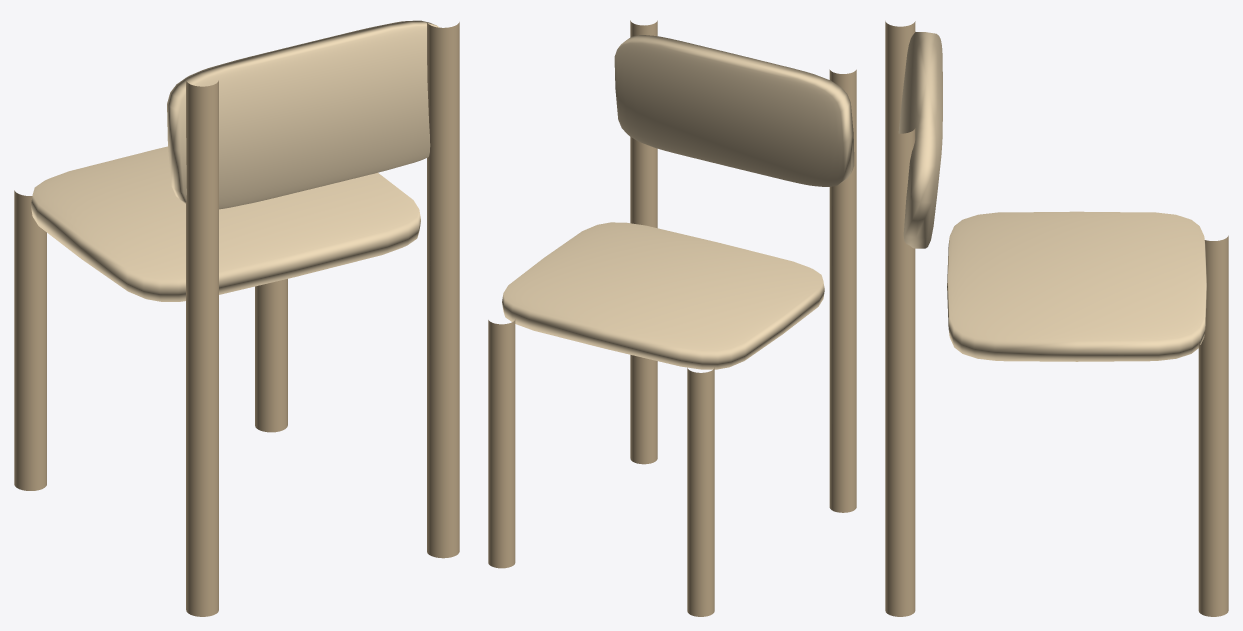
File: ikea-lisabo-00457235-g2-dining-chair-proxy.glb
3 renders of one model, left to right at view 1: azimuth 30°, elevation 25°; view 2: azimuth 150°, elevation 25°; view 3: azimuth 270°, elevation 25°, orthographic. The views are drawn at different scales.
Parts seen in each view (by area): view 1: chair_leg (×4), back, seat, back_upright (×2); view 2: seat, back, chair_leg (×4), back_upright (×2); view 3: seat, chair_leg (×3), back_upright (×2), back.
Part boxes in pixels (<box>): chair_leg (×4): <box>14,190,459,616</box>; back: <box>167,20,439,209</box>; seat: <box>31,146,420,301</box>; back_upright (×2): <box>186,22,459,338</box>; seat: <box>502,222,824,369</box>; back: <box>614,35,854,186</box>; chair_leg (×4): <box>488,215,856,616</box>; back_upright (×2): <box>630,20,856,282</box>; seat: <box>947,211,1206,361</box>; chair_leg (×3): <box>885,235,1228,616</box>; back_upright (×2): <box>885,21,915,362</box>; back: <box>898,32,942,248</box>.
Size of the model in its own units: 0.46 by 0.8 by 0.515.
